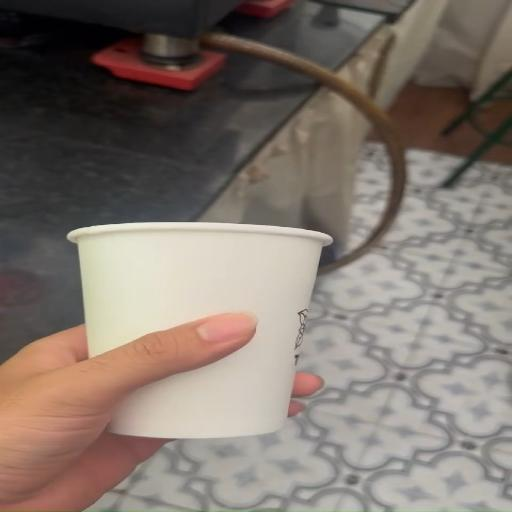Ly_giay: (67, 222, 331, 438)
